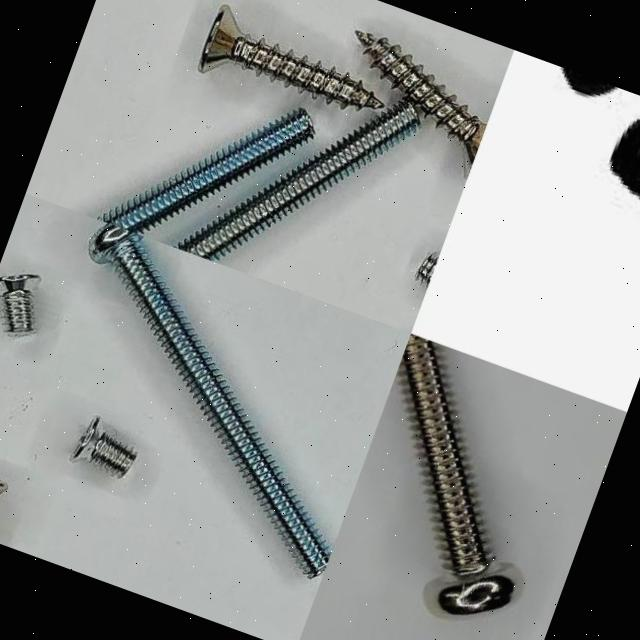Screw: (88, 223, 332, 578), (174, 99, 420, 263), (402, 334, 515, 616), (95, 109, 313, 234), (197, 4, 384, 109), (355, 32, 488, 178), (70, 416, 136, 477), (606, 117, 640, 199), (0, 273, 38, 334)
